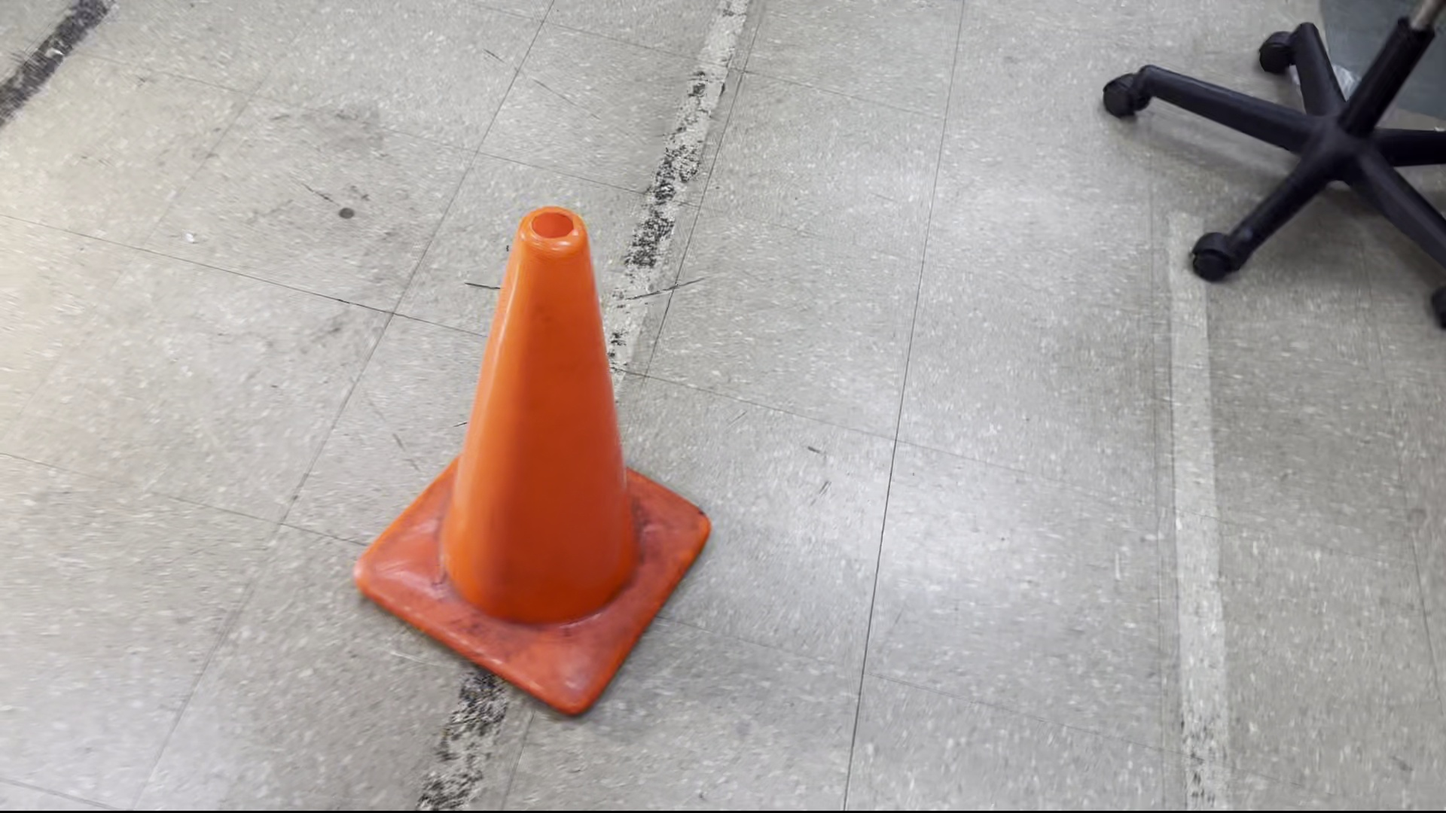traffic_cone: (352, 204, 712, 717)
